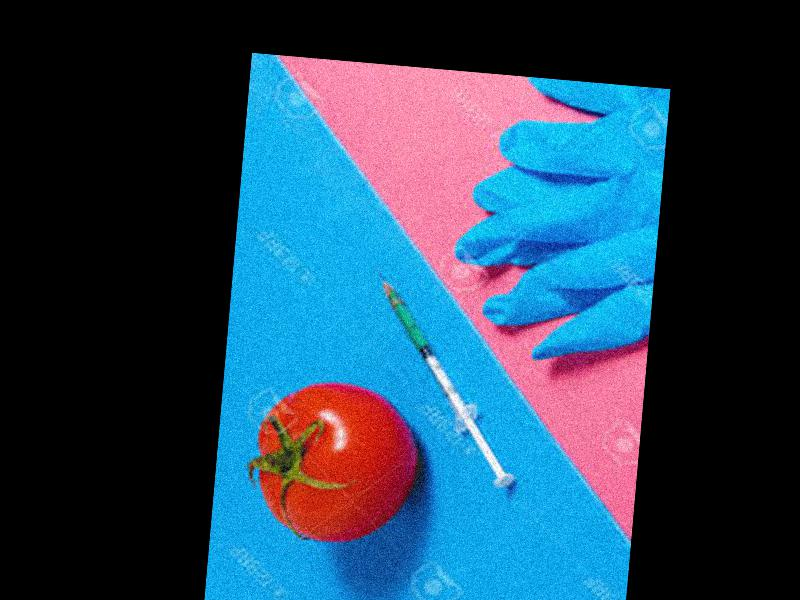Tomato: (252, 376, 425, 546)
